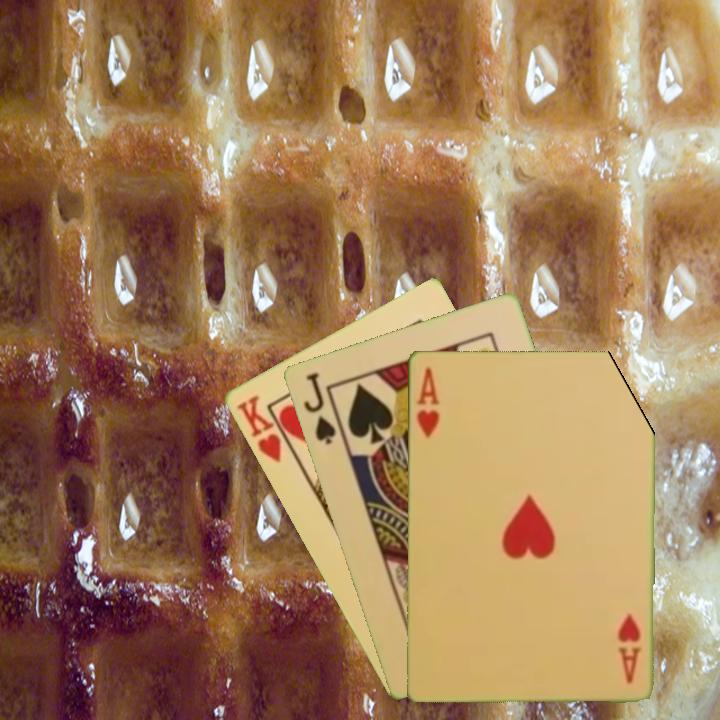Ah: (413, 363, 442, 440), (615, 609, 643, 686)
Js: (299, 368, 338, 448)
Kh: (232, 391, 297, 466)
